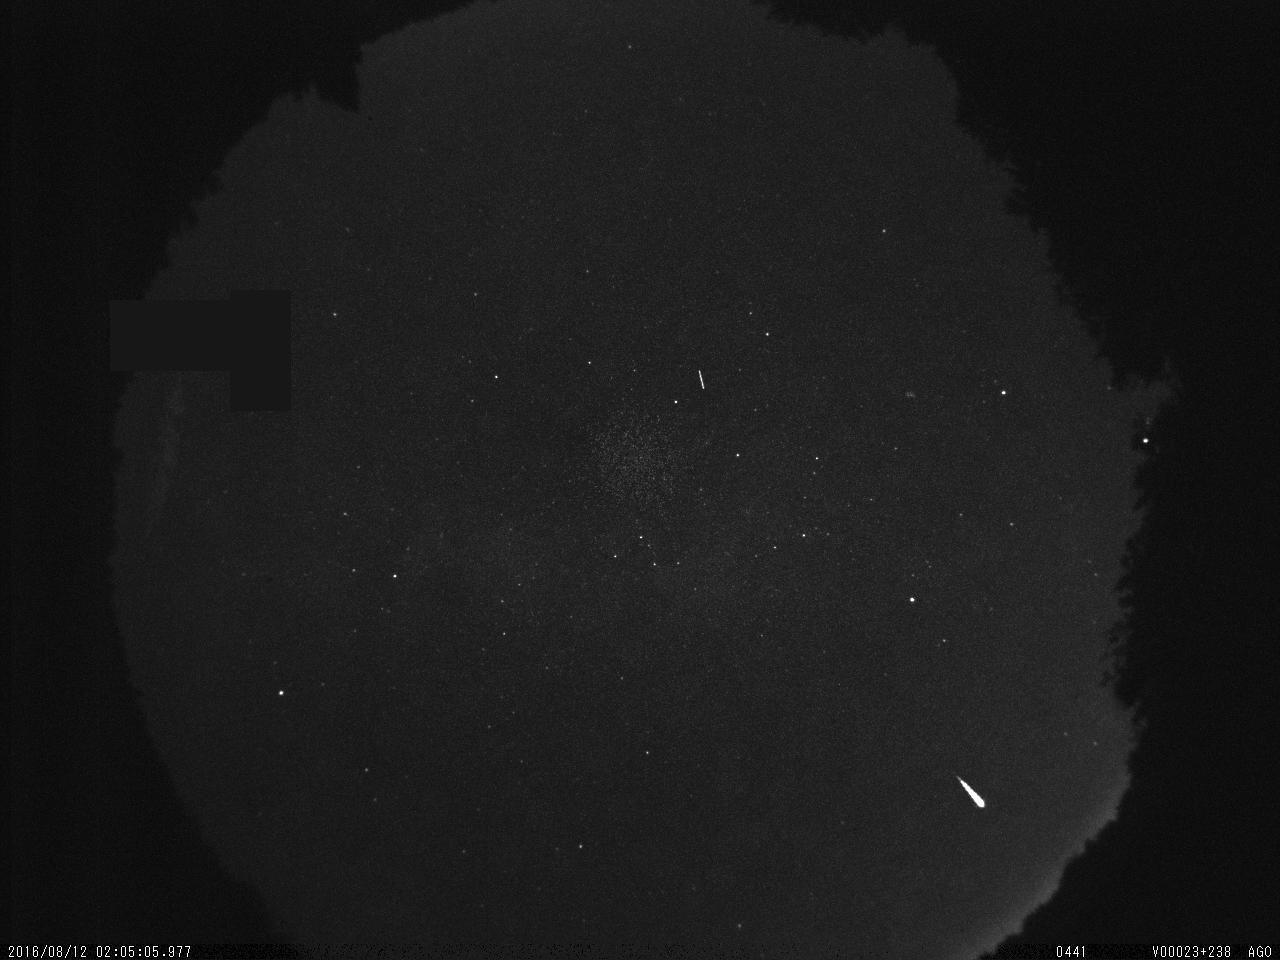meteor: (934, 749, 1032, 841)
